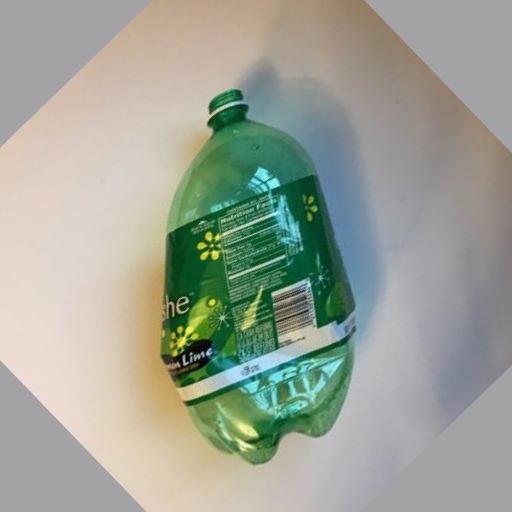Plastic_0: (168, 90, 357, 465)
